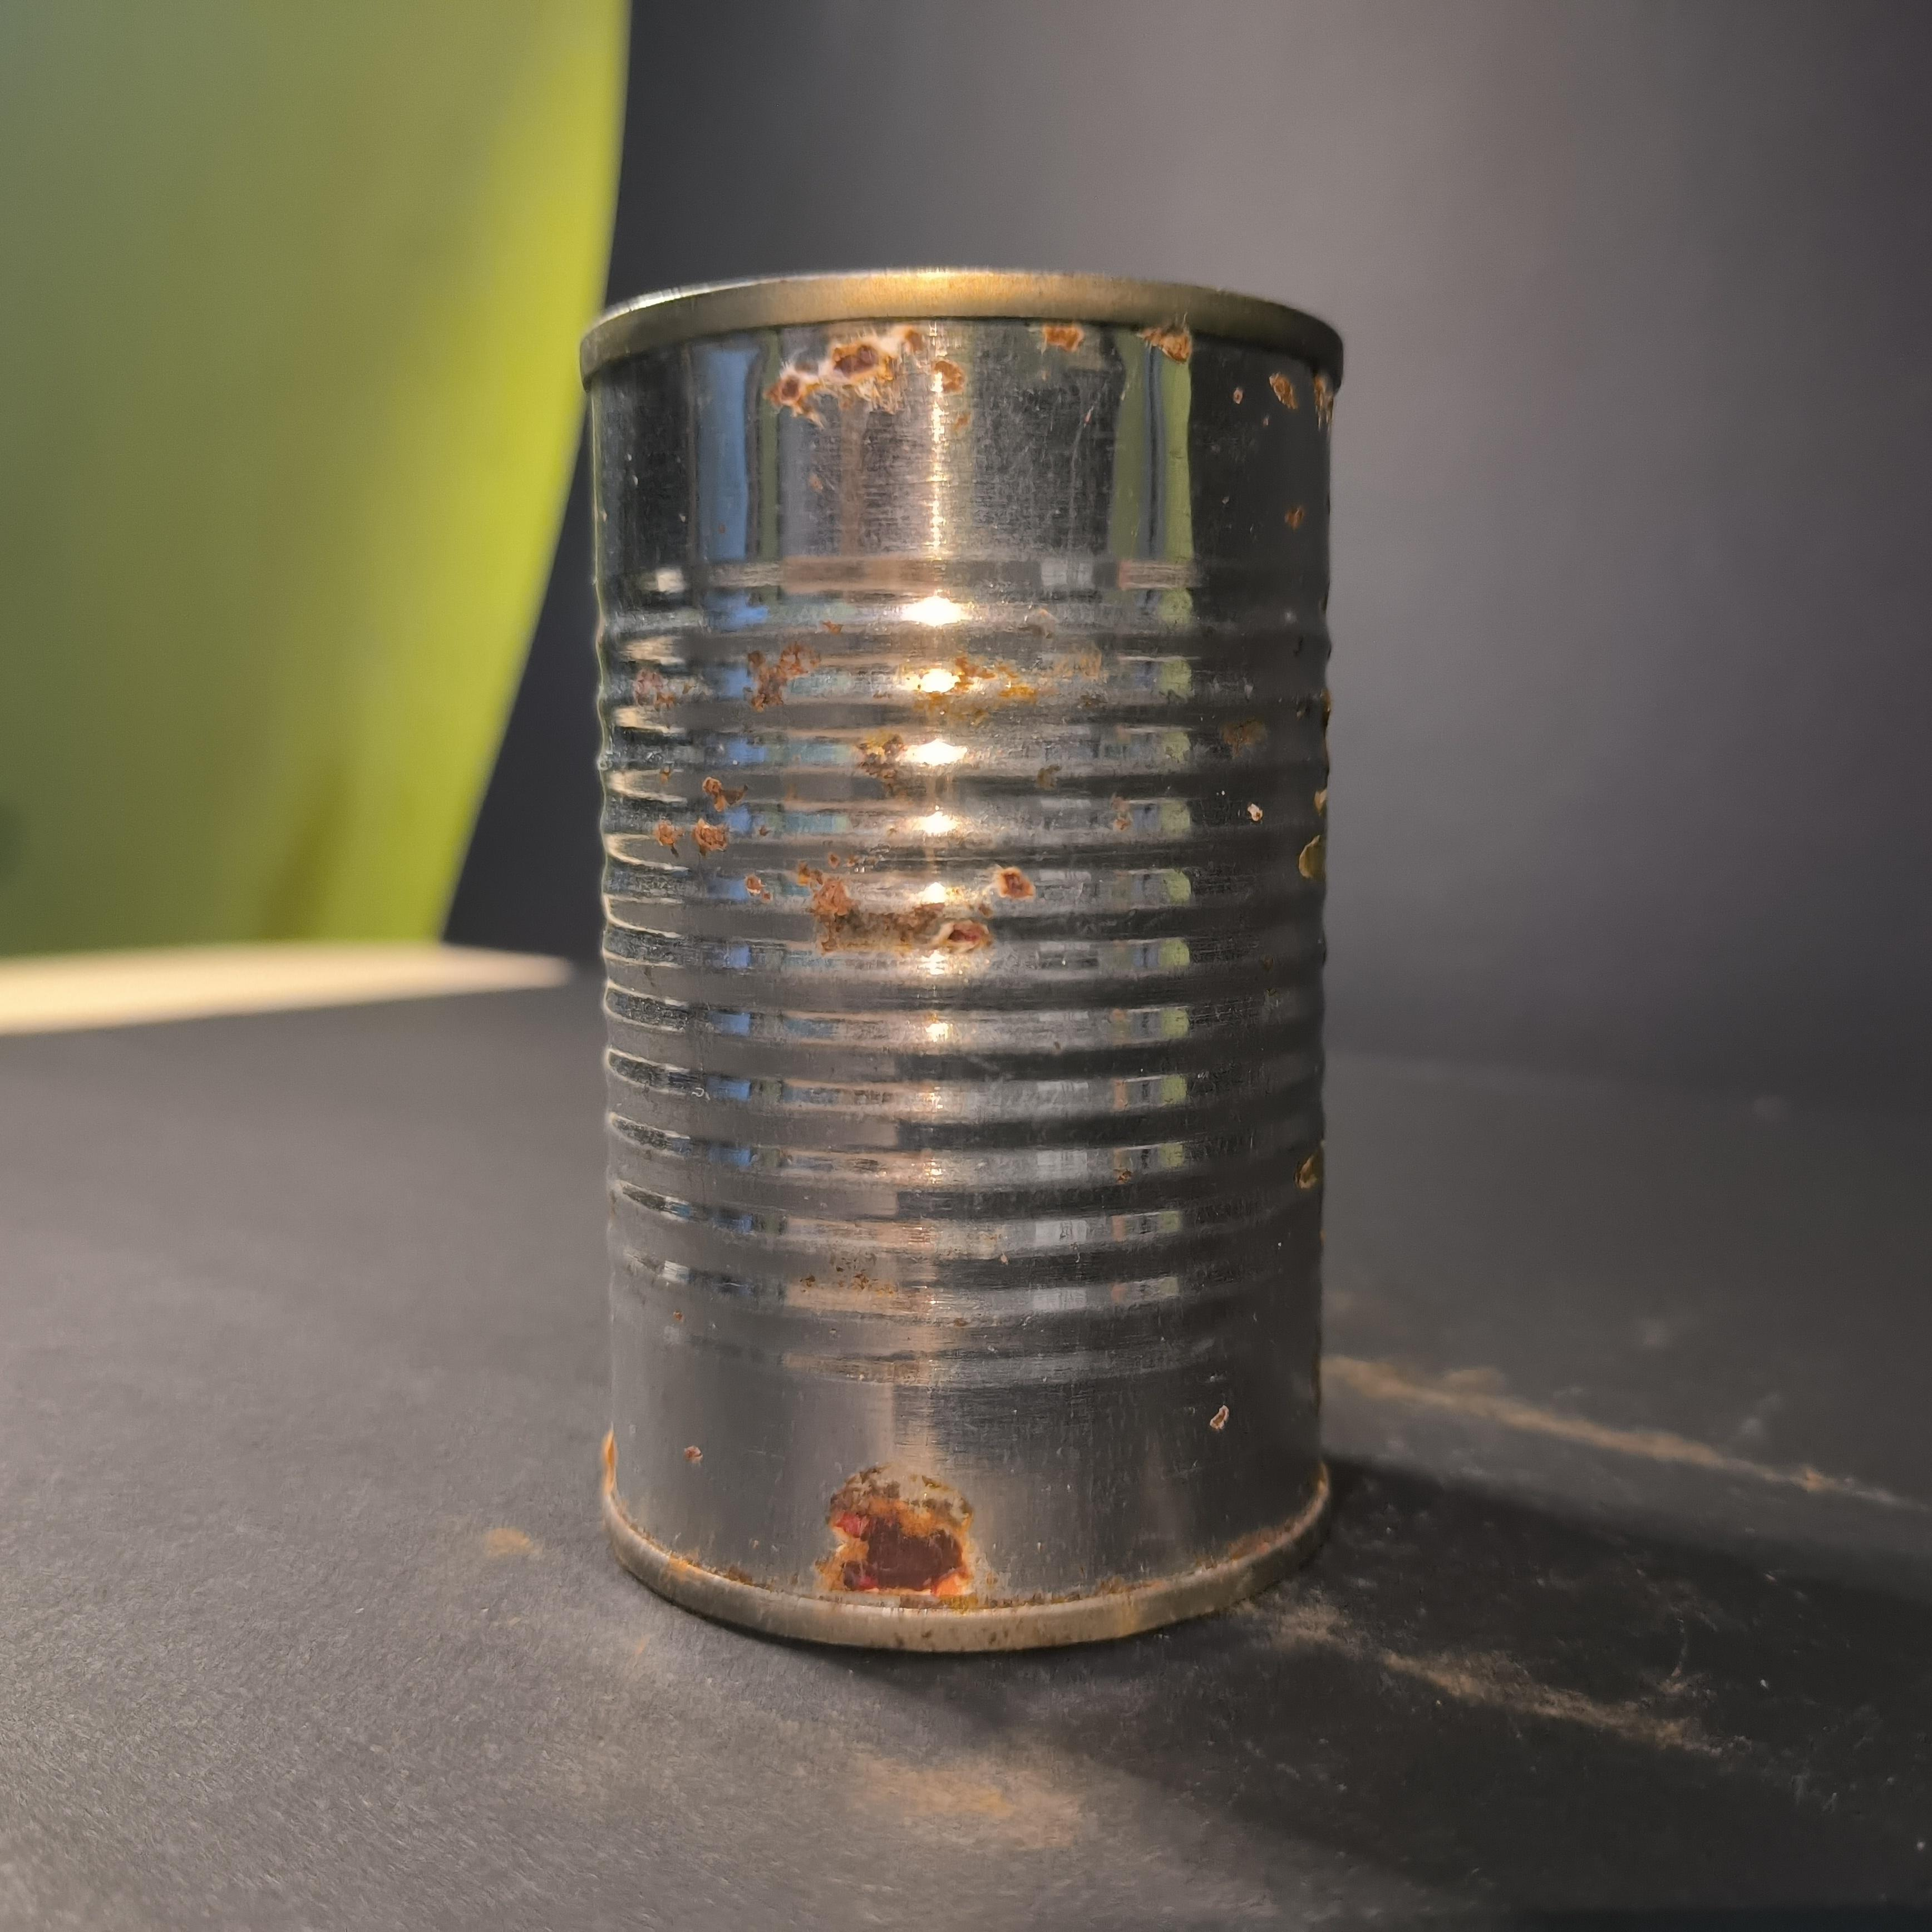Rusted: (543, 232, 1410, 1681)
